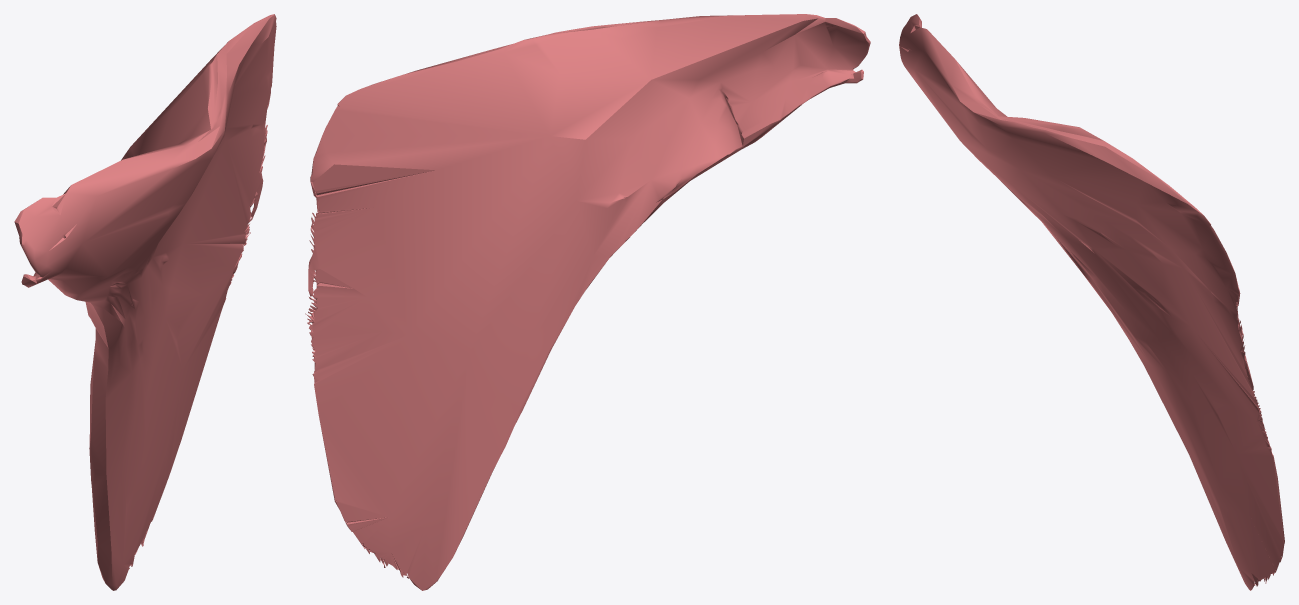
The picture shows the model from 3 angles, left to right: view 1: azimuth 30°, elevation 25°; view 2: azimuth 150°, elevation 25°; view 3: azimuth 270°, elevation 25°; orthographic projection. The views are drawn at different scales.
Visible parts, largest first — view 1: FJ1504; view 2: FJ1504; view 3: FJ1504.
Part boxes in pixels (x1,y1,x2,y2): FJ1504: (14, 14, 276, 590); FJ1504: (305, 14, 870, 590); FJ1504: (899, 14, 1284, 590).
Size of the model in its own units: 0.1024 by 0.129 by 0.0967.
